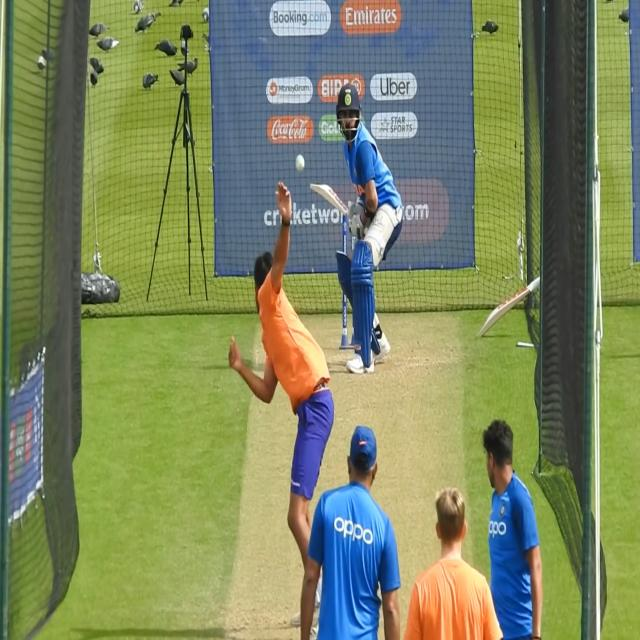Cricket ball: (294, 151, 306, 175)
